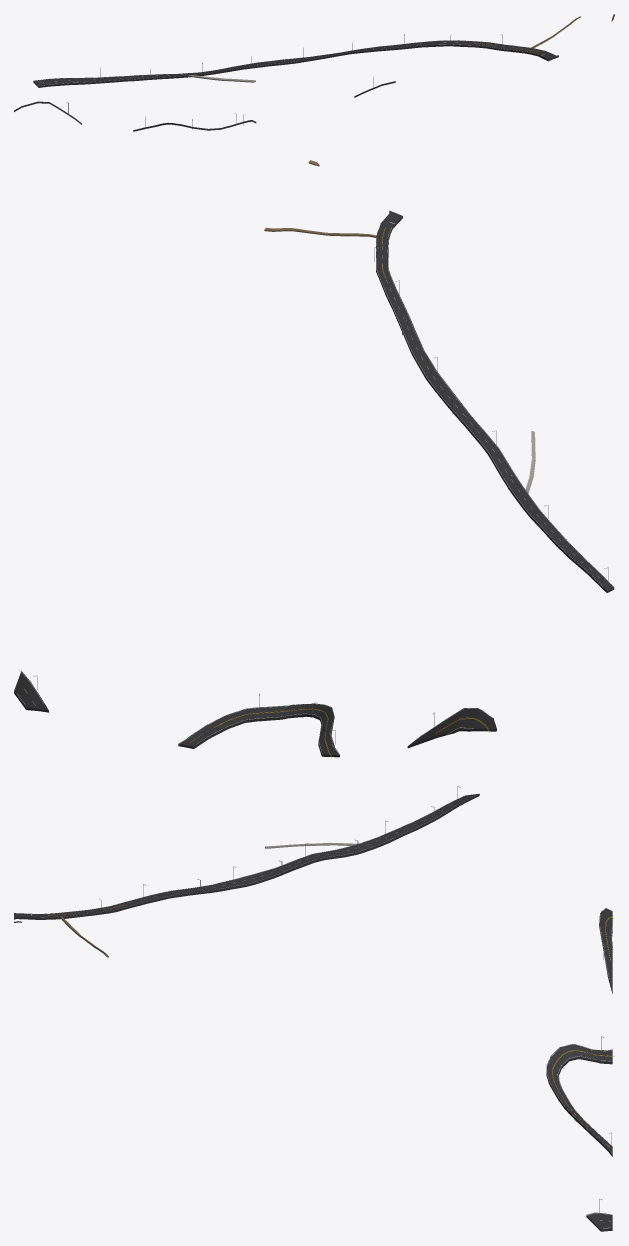
3 renders of one model, top to bottom at view 1: azimuth 30°, elevation 25°; view 2: azimuth 150°, elevation 25°; view 3: azimuth 270°, elevation 25°, orthographic. The views are drawn at different scales.
Size of the model in its own units: 296 by 171 by 293.
